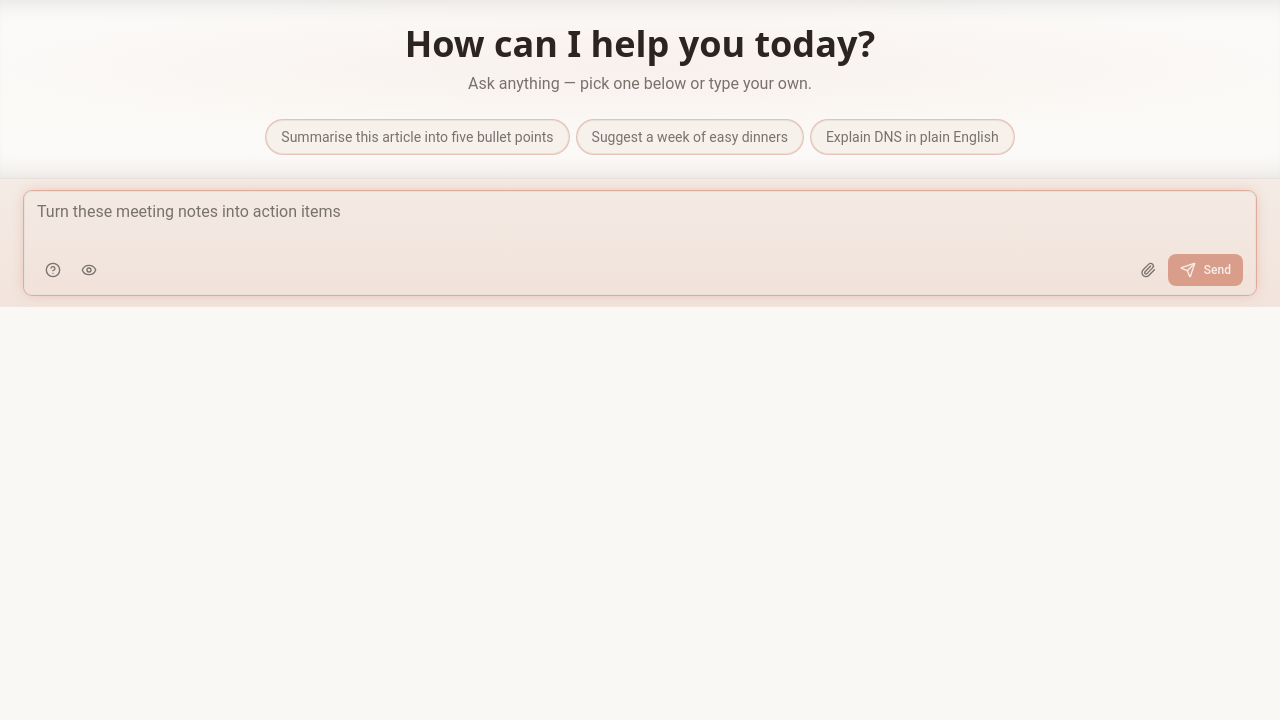
it: ChatWindow capabilities panel (#366) › shows a load-failure note instead of pretending no tools exist
Click the button with test id "capabilities-toggle". click: (53, 270)
box: 37,254 -> 69,286
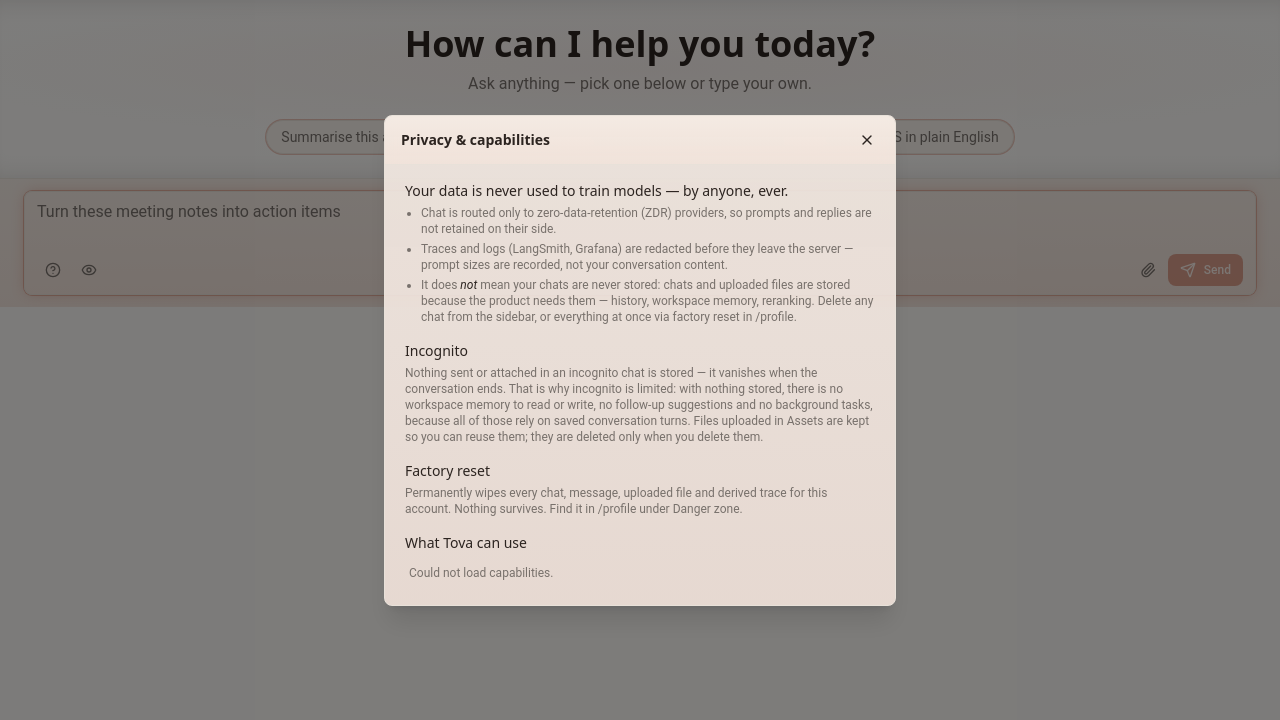
Now the text "Could not load capabilities." is shown, box 409,566 -> 554,580
